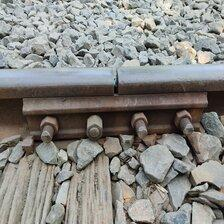railway-gap: (90, 57, 139, 103)
